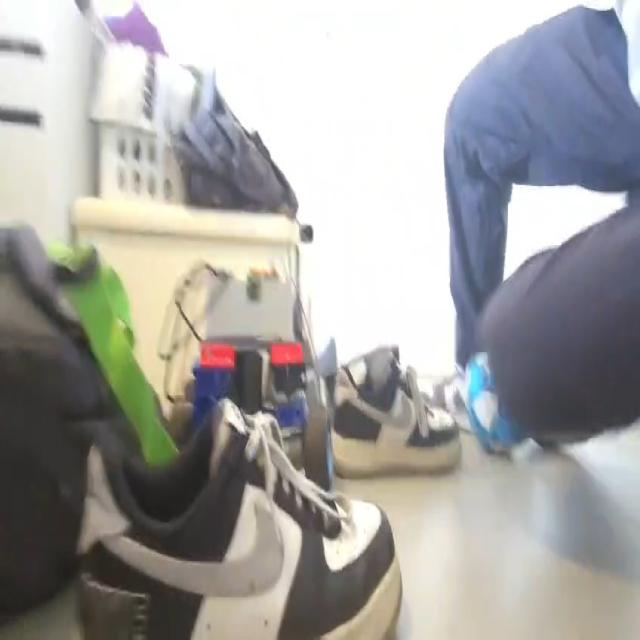Robot: (168, 266, 334, 491)
